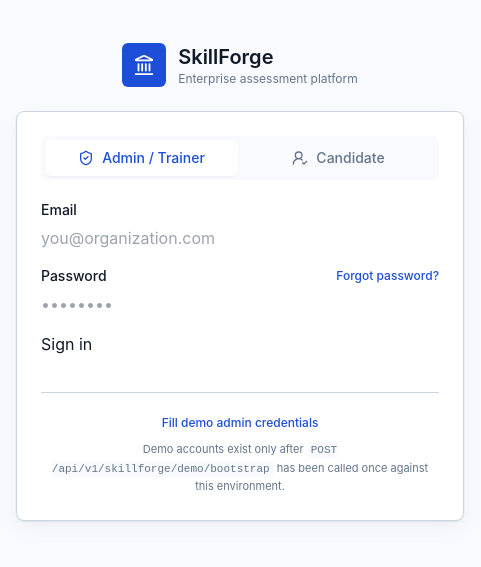
LoginPage › falls back to a generic message only when the error has no parseable response body (e.g. a network/decoding failure)
The width and height of the screenshot is (481, 567).
Type "admin@apex.example" into the field with placeholder "you@organization.com" at (165, 238), box [41, 226, 289, 250]
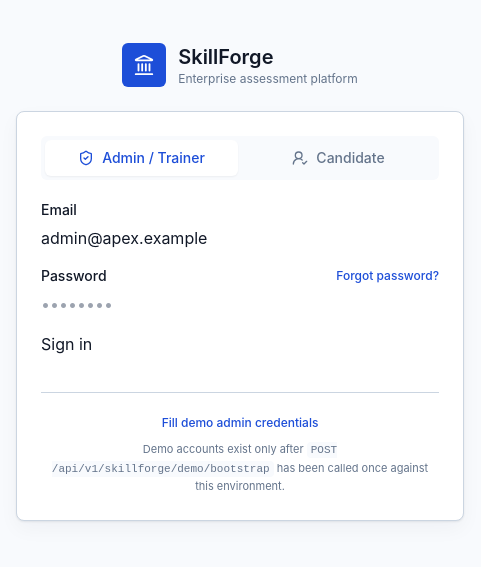
Type "Demo@12345" into the password field with placeholder "••••••••" at (165, 304), box [41, 292, 289, 316]
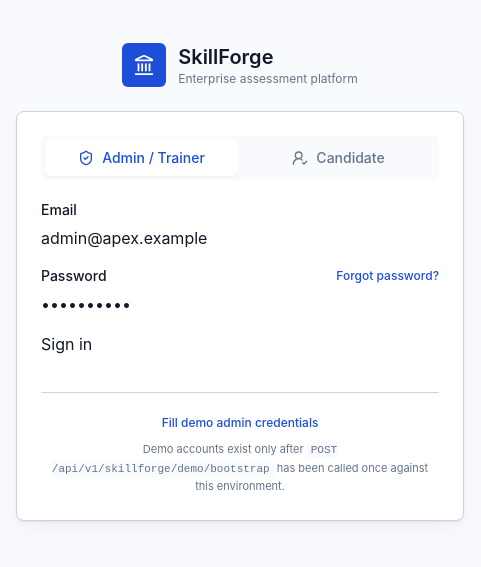
Click the button "Sign in" at (67, 344), box [41, 332, 92, 356]
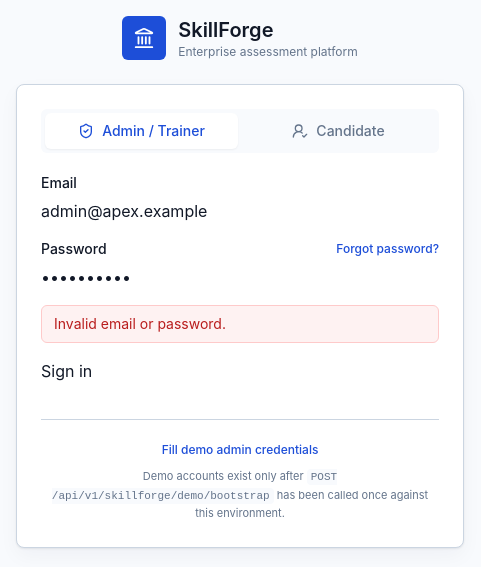
Expected: the text "Invalid email or password." is shown, [41, 305, 439, 343]
